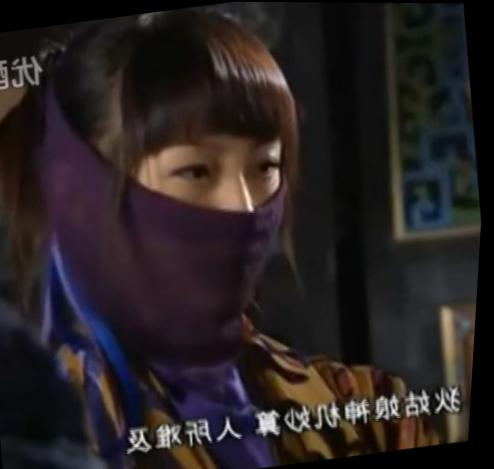WRONG: (104, 98, 314, 334)
